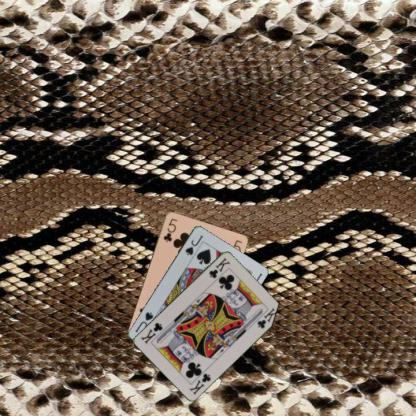5c: (160, 216, 178, 243)
Js: (182, 232, 204, 257)
Kc: (187, 370, 212, 395), (206, 255, 231, 279)
